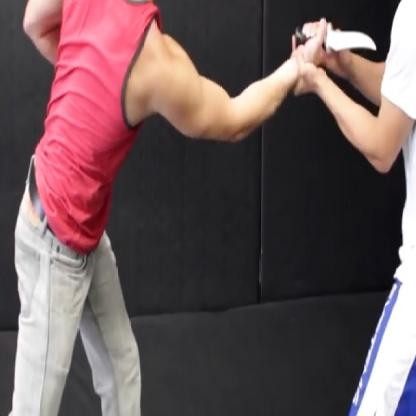knife: (289, 11, 382, 64)
